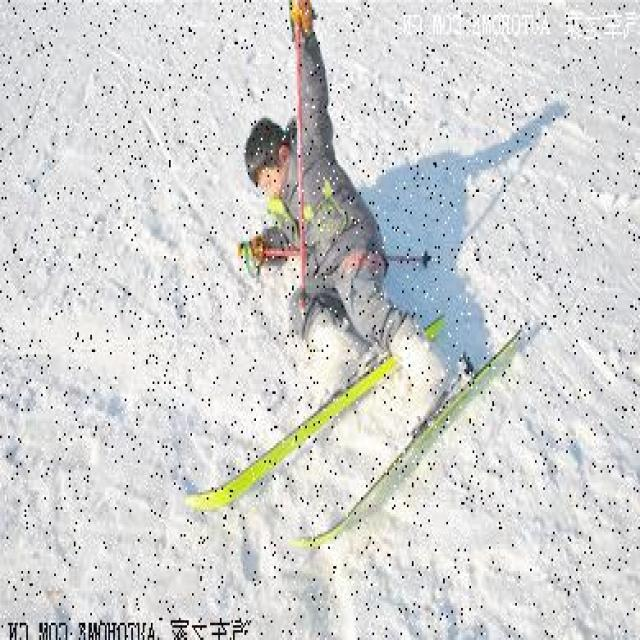fall: (243, 51, 448, 406)
